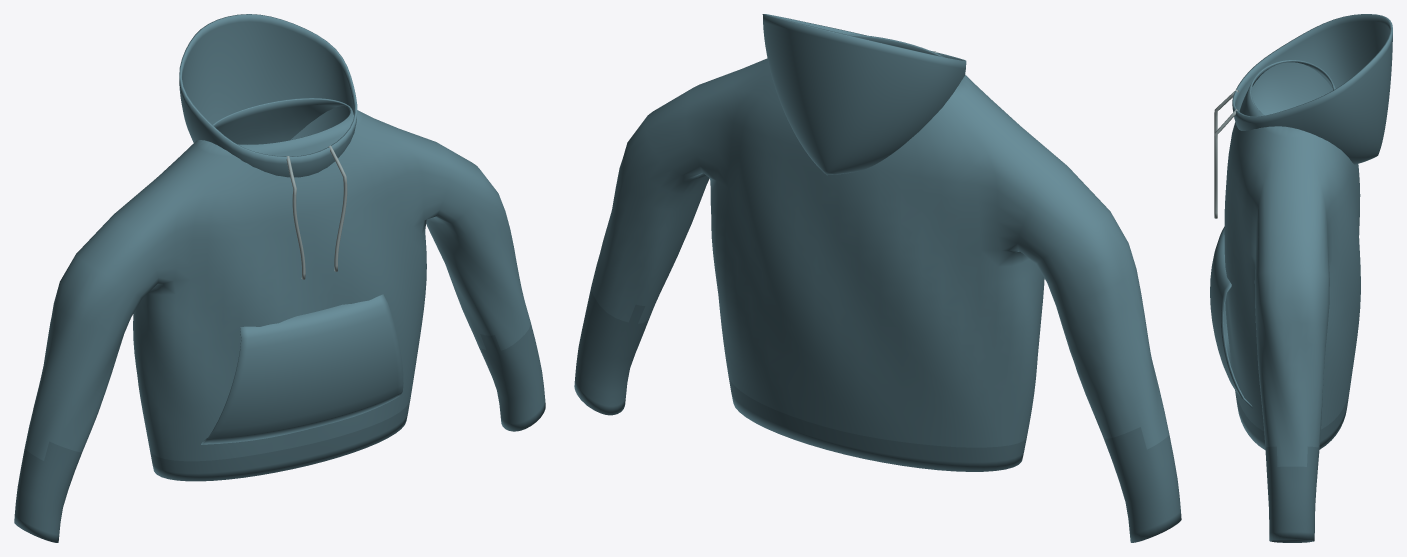
3 views of the same model, side by side, from view 1: azimuth 30°, elevation 25°; view 2: azimuth 150°, elevation 25°; view 3: azimuth 270°, elevation 25° (orthographic). The views are drawn at different scales.
Visible parts, largest first — view 1: Continuous torso and open cuff sleeves, Kangaroo pocket cloth with two hand openings, Attached lined hood with finished opening; view 2: Continuous torso and open cuff sleeves, Attached lined hood with finished opening; view 3: Continuous torso and open cuff sleeves, Attached lined hood with finished opening, Kangaroo pocket cloth with two hand openings, Drawcord 1.
Boxes of the visible parts, x1,y1,x2,y2 form: Continuous torso and open cuff sleeves: (14, 98, 545, 542); Kangaroo pocket cloth with two hand openings: (201, 294, 403, 444); Attached lined hood with finished opening: (179, 14, 357, 177); Continuous torso and open cuff sleeves: (574, 34, 1181, 542); Attached lined hood with finished opening: (762, 14, 966, 175); Continuous torso and open cuff sleeves: (1224, 60, 1360, 542); Attached lined hood with finished opening: (1232, 14, 1392, 164); Kangaroo pocket cloth with two hand openings: (1210, 226, 1252, 408); Drawcord 1: (1214, 109, 1237, 218).
Bounding box in the file's own units: 0.9983 × 0.7809 × 0.3165.
